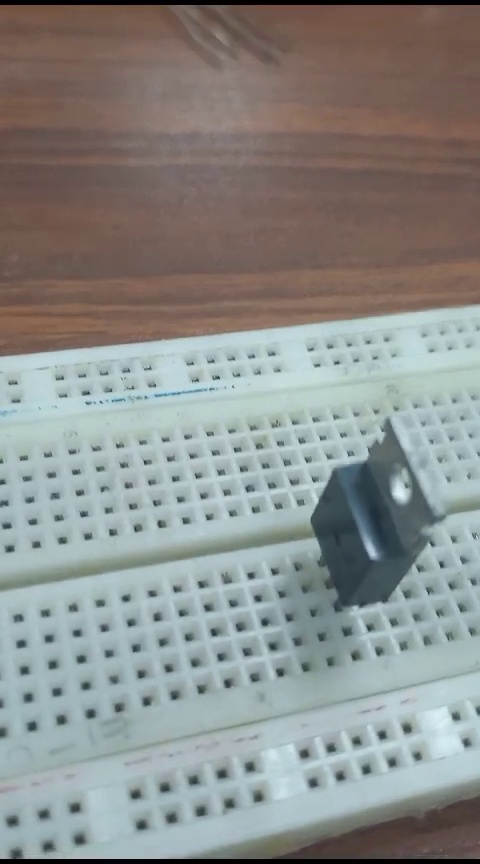voltage regulator: (289, 405, 436, 627)
